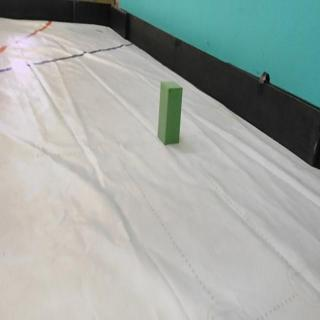greenbox: (157, 81, 183, 145)
